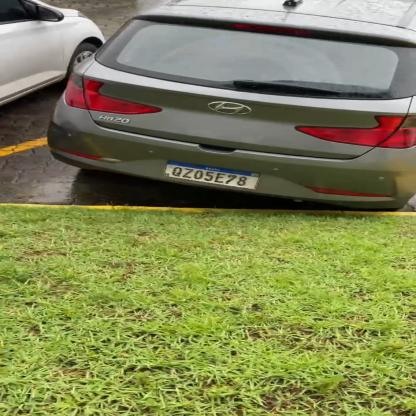Plate: (162, 160, 262, 192)
